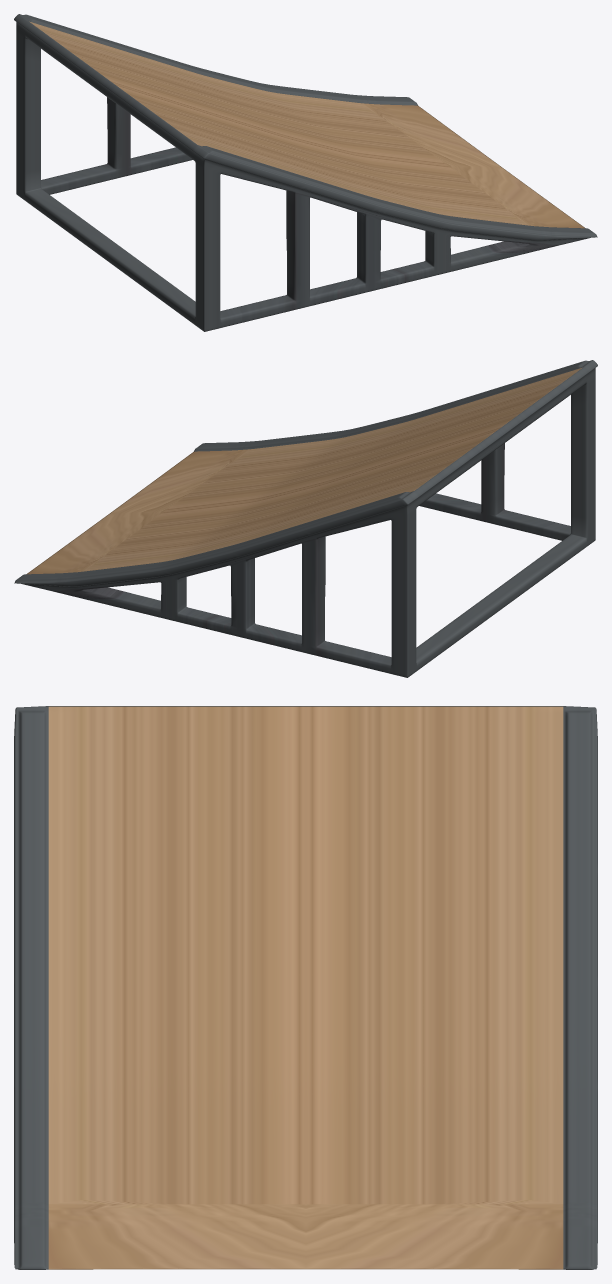
File: SM_WoodLaunchRamp.fbx
3 views of the same model, one above another, from view 1: azimuth 30°, elevation 25°; view 2: azimuth 150°, elevation 25°; view 3: azimuth 270°, elevation 25° (orthographic). The views are drawn at different scales.
Visible parts, largest first — view 1: 16308_SkatePark_launchramp_v2_NEW; view 2: 16308_SkatePark_launchramp_v2_NEW; view 3: 16308_SkatePark_launchramp_v2_NEW.
Boxes of the visible parts, <box> form: 16308_SkatePark_launchramp_v2_NEW: <box>14,14,597,331</box>; 16308_SkatePark_launchramp_v2_NEW: <box>14,360,597,677</box>; 16308_SkatePark_launchramp_v2_NEW: <box>14,706,597,1269</box>.
Bounding box in the file's own units: 23094 × 10012 × 19375.
Materials: 2 (2 with a texture image).
